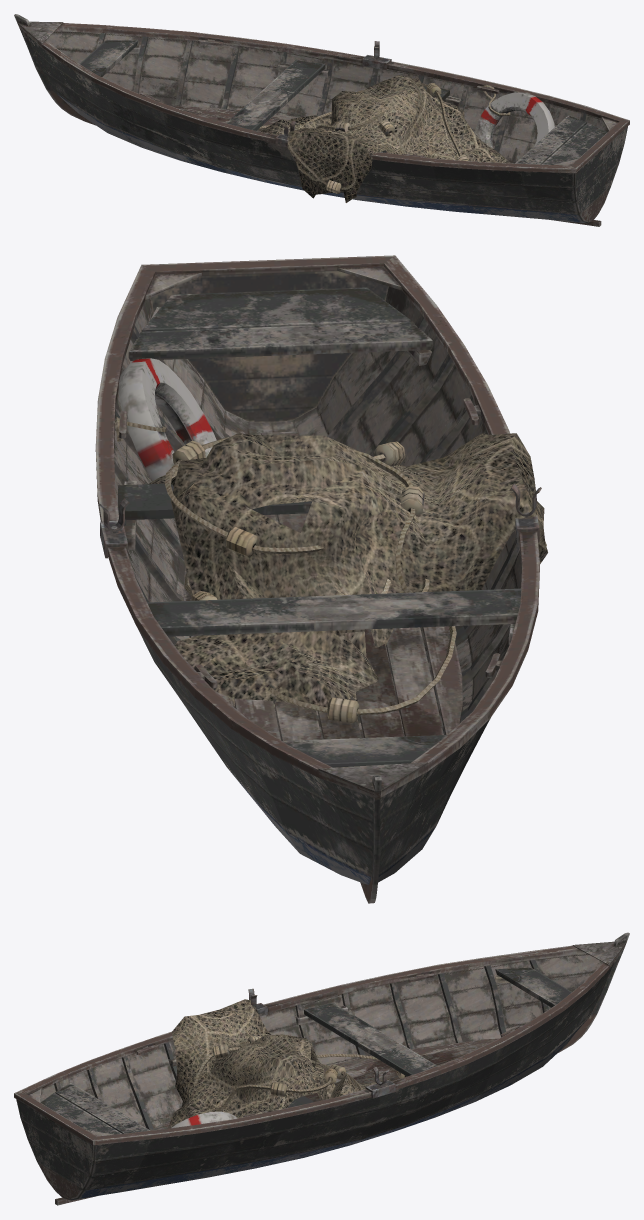
Rendered from SandyBeach_Boat01.fbx.
3 renders of one model, top to bottom at view 1: azimuth 30°, elevation 25°; view 2: azimuth 150°, elevation 25°; view 3: azimuth 270°, elevation 25°, orthographic. The views are drawn at different scales.
Parts seen in each view (by area): view 1: ItemBox_Boat_0; view 2: ItemBox_Boat_0; view 3: ItemBox_Boat_0.
Boxes of the visible parts, x1,y1,x2,y2 form: ItemBox_Boat_0: (14,14,629,226); ItemBox_Boat_0: (95,255,547,903); ItemBox_Boat_0: (14,932,629,1205).
Size of the model in its own units: 452 by 125 by 607.
1 material, 1 textured.
